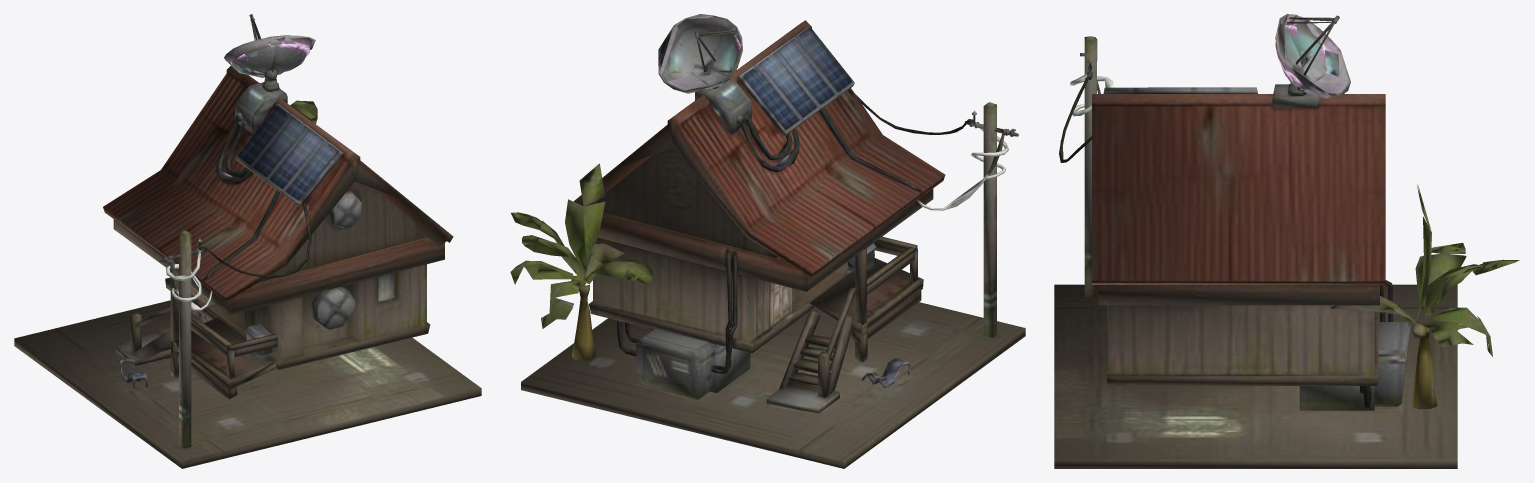
The model's file is malay_kampung_house.glb.
3 renders of one model, left to right at view 1: azimuth 30°, elevation 25°; view 2: azimuth 150°, elevation 25°; view 3: azimuth 270°, elevation 25°, orthographic. The views are drawn at different scales.
Visible parts, largest first — view 1: Body; view 2: Body; view 3: Body.
Part boxes in pixels (bbox=[...]): Body: bbox=[14, 14, 481, 468]; Body: bbox=[510, 14, 1025, 468]; Body: bbox=[1054, 14, 1519, 468].
Size of the model in its own units: 9.82 by 9.51 by 10.37.
Materials: 2 (2 with a texture image).
